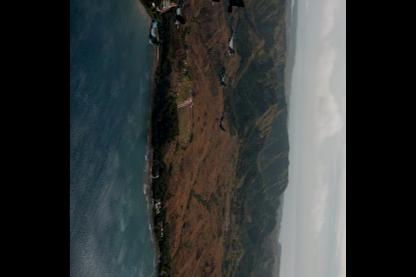F117: (228, 23, 236, 54)
F14: (149, 10, 160, 46), (220, 109, 226, 130)
F15: (175, 0, 186, 28), (221, 63, 226, 88)
